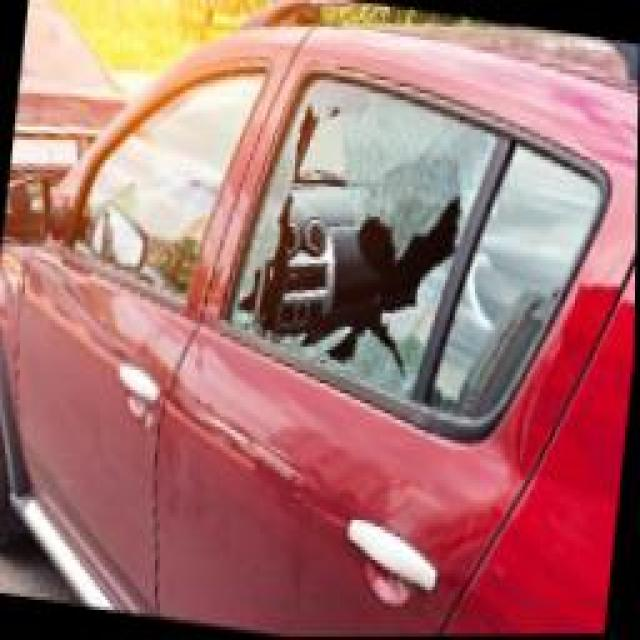Door: (225, 60, 570, 456)
